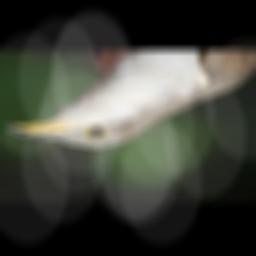Cuckoo: (5, 50, 256, 148)
